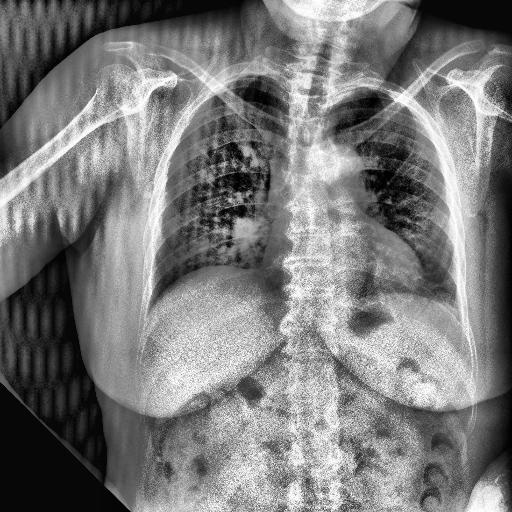0- Aortic enlargement: (286, 140, 366, 194), (302, 143, 380, 196)
13- Pulmonary fibrosis: (406, 266, 456, 312)
5- ILD: (392, 263, 466, 310)
8- Nodule-Mass: (222, 210, 271, 245)
